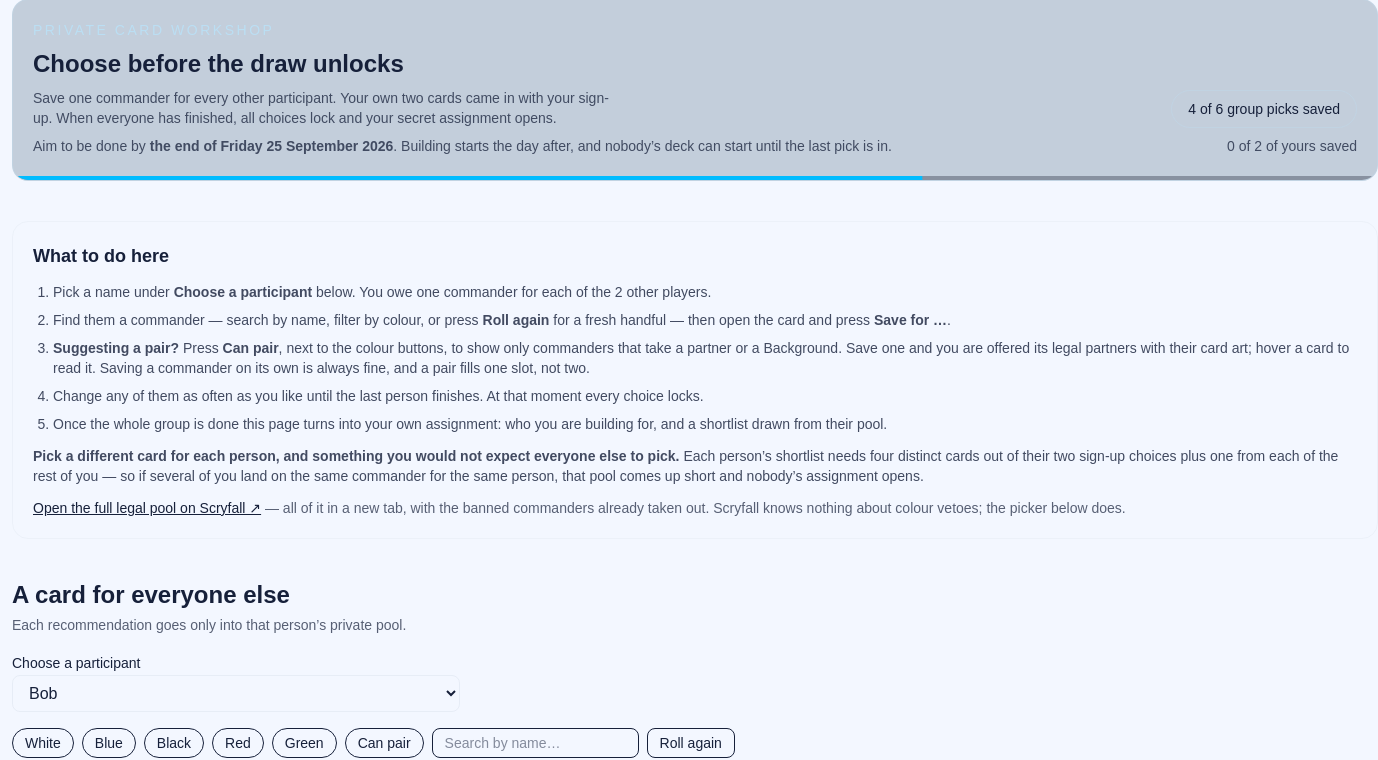
Test: DemoCardWorkshop › saves a card the recipient has not vetoed
Expected: the text "4 of 6 group picks saved" is shown, [1171,90,1357,128]
Select "Cleo" in the dropdown labelled "Choose a participant" at {"x": 236, "y": 694}, box [12,675,460,712]
(page scrolled)
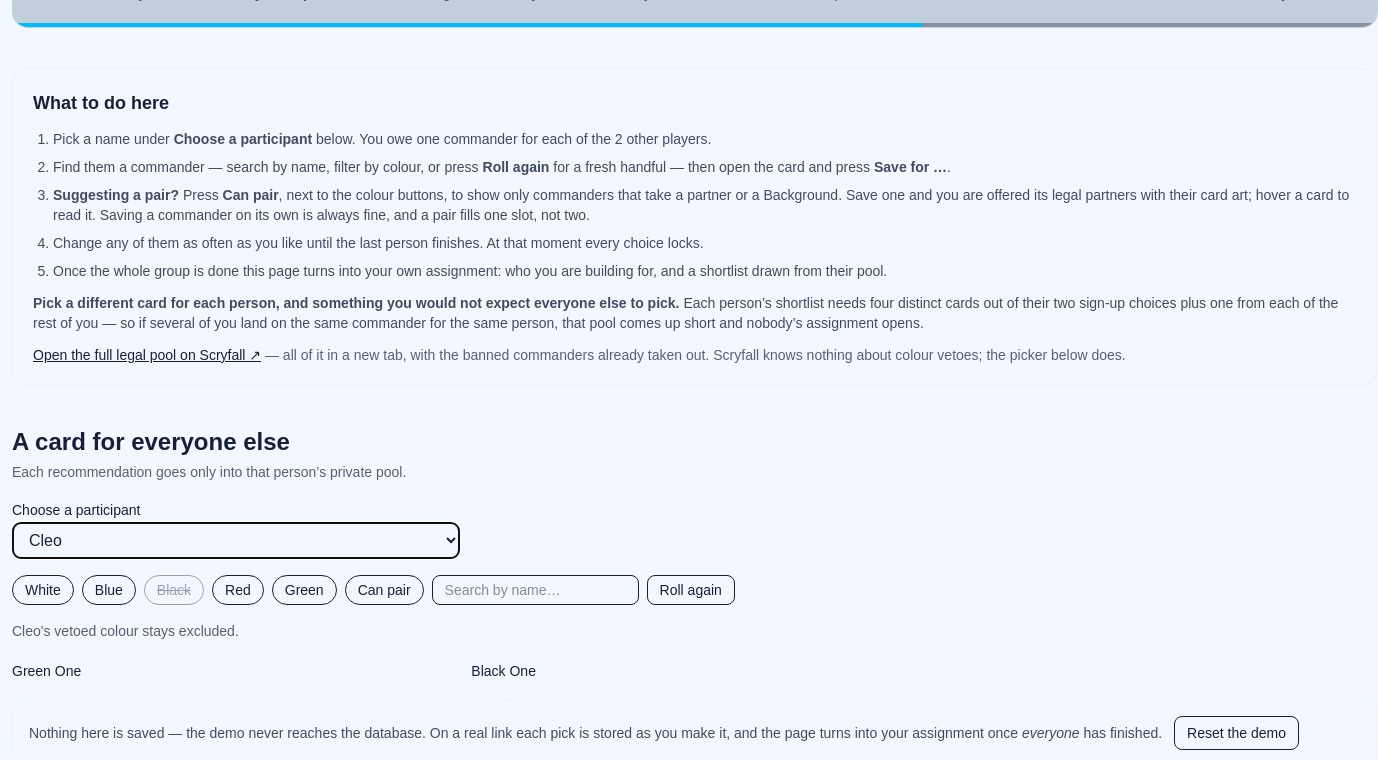
Click the button "Green One" at {"x": 47, "y": 671}, box [12,657,459,681]
(page scrolled)
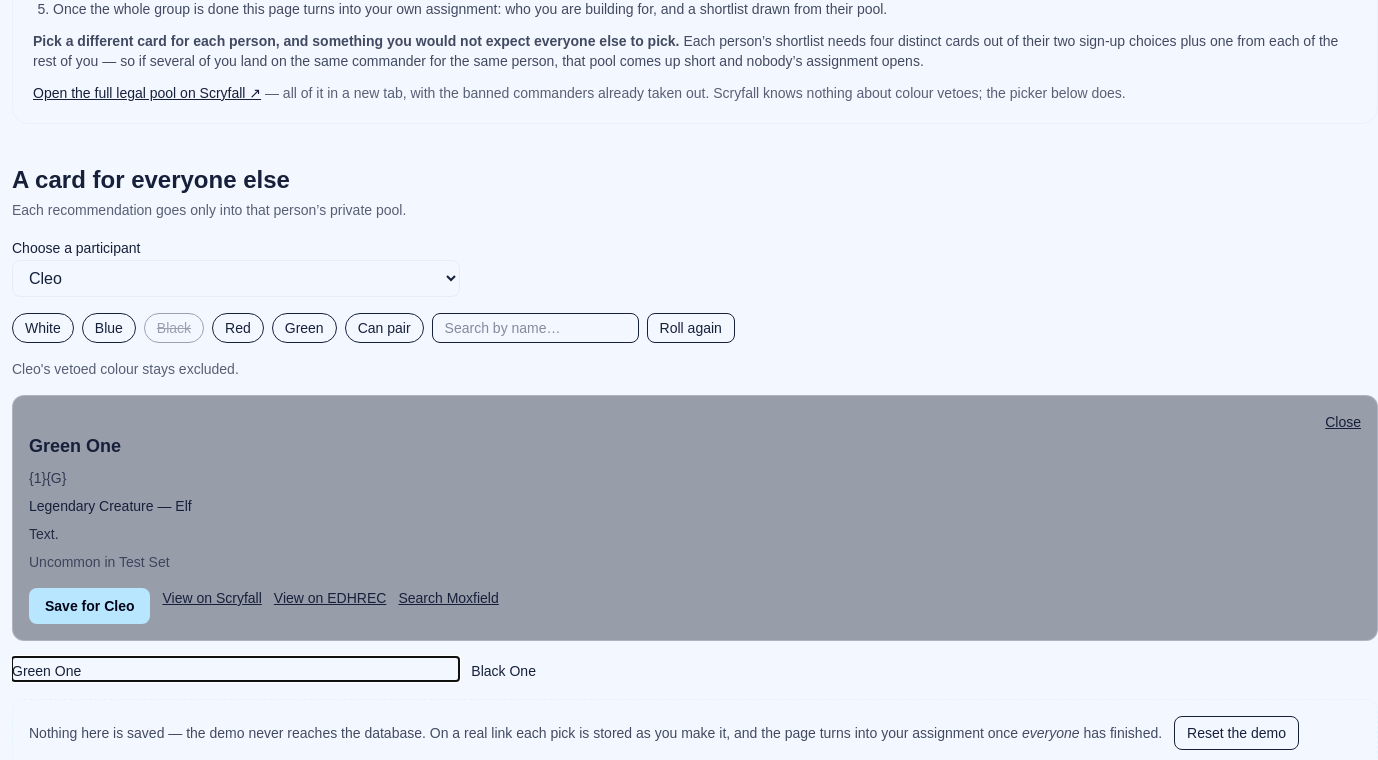
Click the button "Save for Cleo" at {"x": 90, "y": 606}, box [29,588,150,624]
(page scrolled)
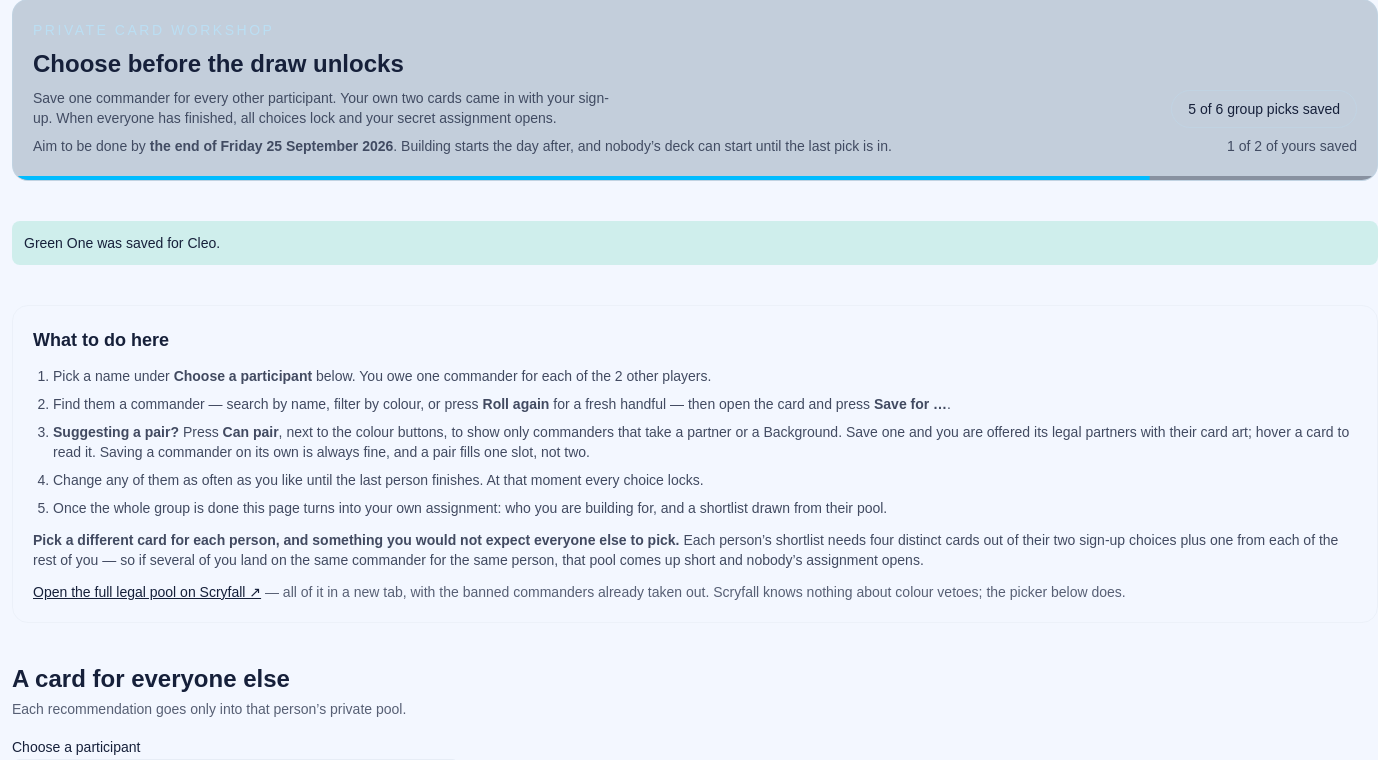
Expected: the text "5 of 6 group picks saved" is shown, [1171,90,1357,128]
